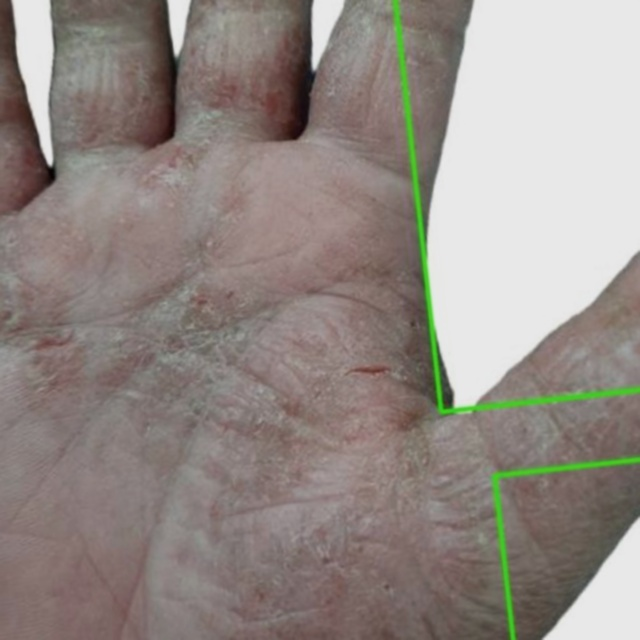Contact Dermatitis: (395, 0, 639, 411)
